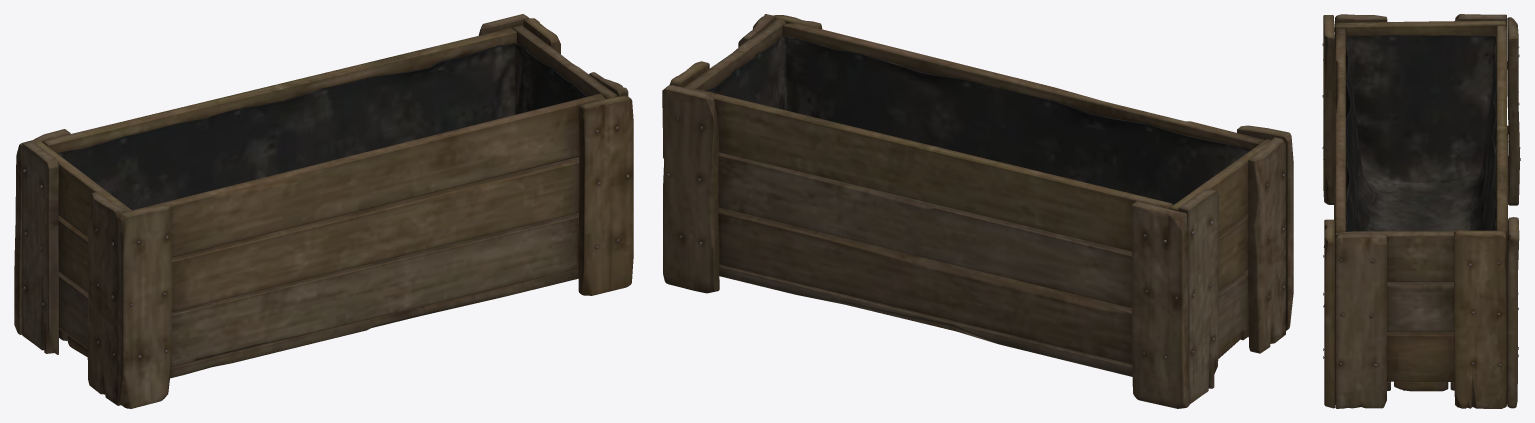
Rendered from planter_2.glb.
The picture shows the model from 3 angles, left to right: view 1: azimuth 30°, elevation 25°; view 2: azimuth 150°, elevation 25°; view 3: azimuth 270°, elevation 25°; orthographic projection. The views are drawn at different scales.
Visible parts, largest first — view 1: planter_2_m_0; view 2: planter_2_m_0; view 3: planter_2_m_0.
Boxes of the visible parts, x1=… form: planter_2_m_0: x1=14, y1=14, x2=633, y2=408; planter_2_m_0: x1=662, y1=14, x2=1293, y2=408; planter_2_m_0: x1=1322, y1=14, x2=1520, y2=408.
Bounding box in the file's own units: 1.25 × 0.4534 × 0.4673.
Materials: 1 (1 with a texture image).
